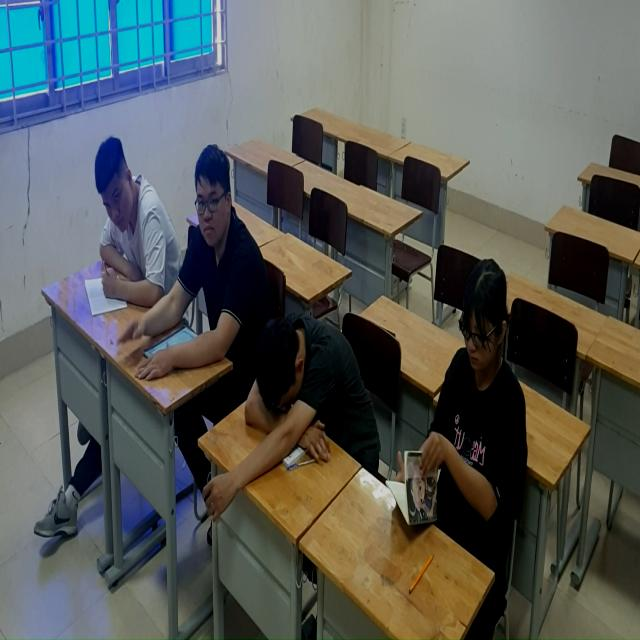read: (389, 235, 519, 572), (119, 85, 267, 371), (67, 104, 198, 348)
sleep: (200, 268, 376, 519)
